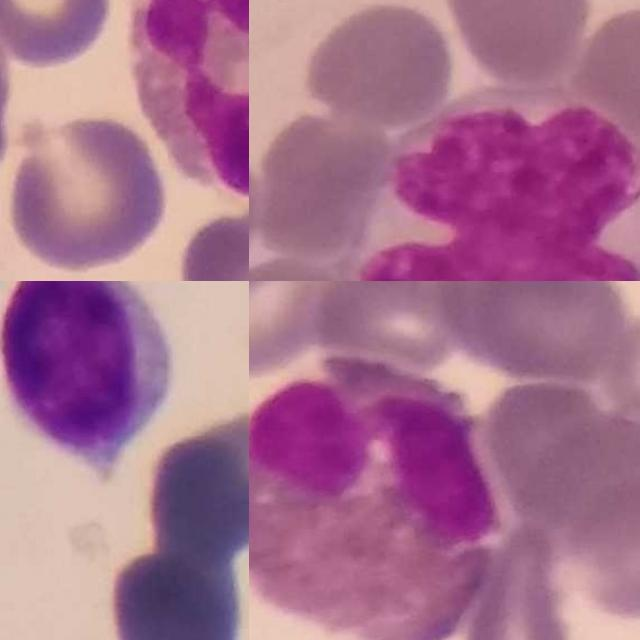Eosinophil: (249, 352, 501, 640), (133, 0, 249, 202)
Lymphocyte: (0, 281, 175, 460)
Monocyte: (359, 88, 640, 281)
